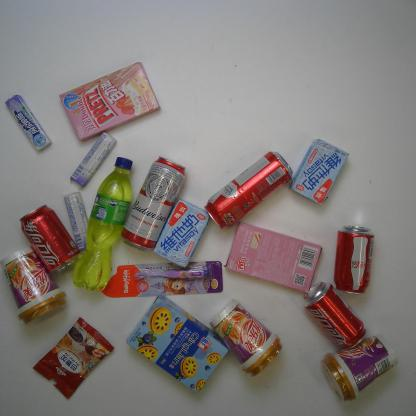Alcohol: (205, 151, 292, 229), (123, 155, 187, 252)
Candy: (5, 92, 52, 152), (69, 130, 117, 187), (64, 193, 92, 250)
Dessert: (127, 294, 229, 396), (57, 62, 161, 140), (225, 219, 323, 293)
Drink: (73, 155, 134, 293), (304, 281, 367, 350), (19, 204, 79, 274), (332, 223, 376, 296)
Instant Drink: (33, 316, 117, 400), (210, 298, 282, 379), (320, 333, 400, 402), (2, 246, 68, 324)
Milk: (290, 139, 350, 206), (154, 200, 210, 270)
Personal Hygiene: (100, 261, 224, 298)
